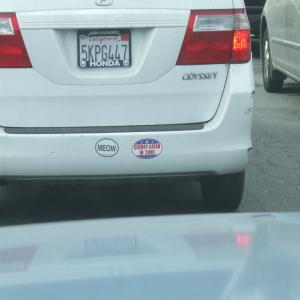Vehicle-registration-plate: (65, 27, 138, 70)
